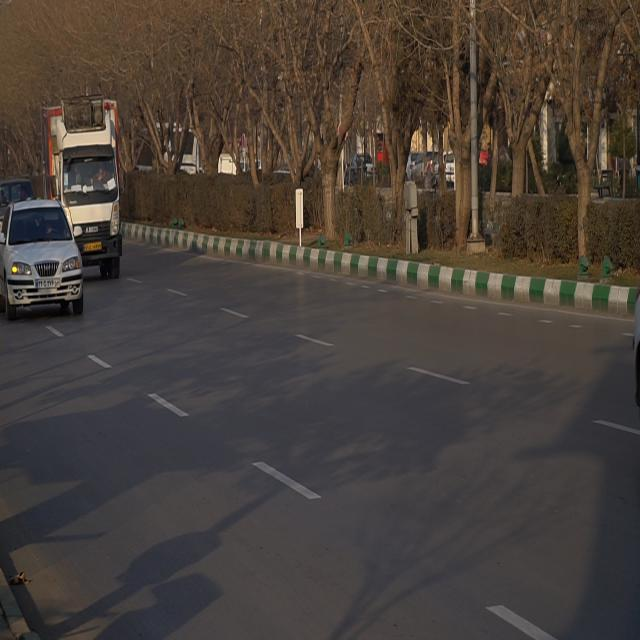car: (2, 202, 80, 309)
truck: (41, 94, 125, 275)
